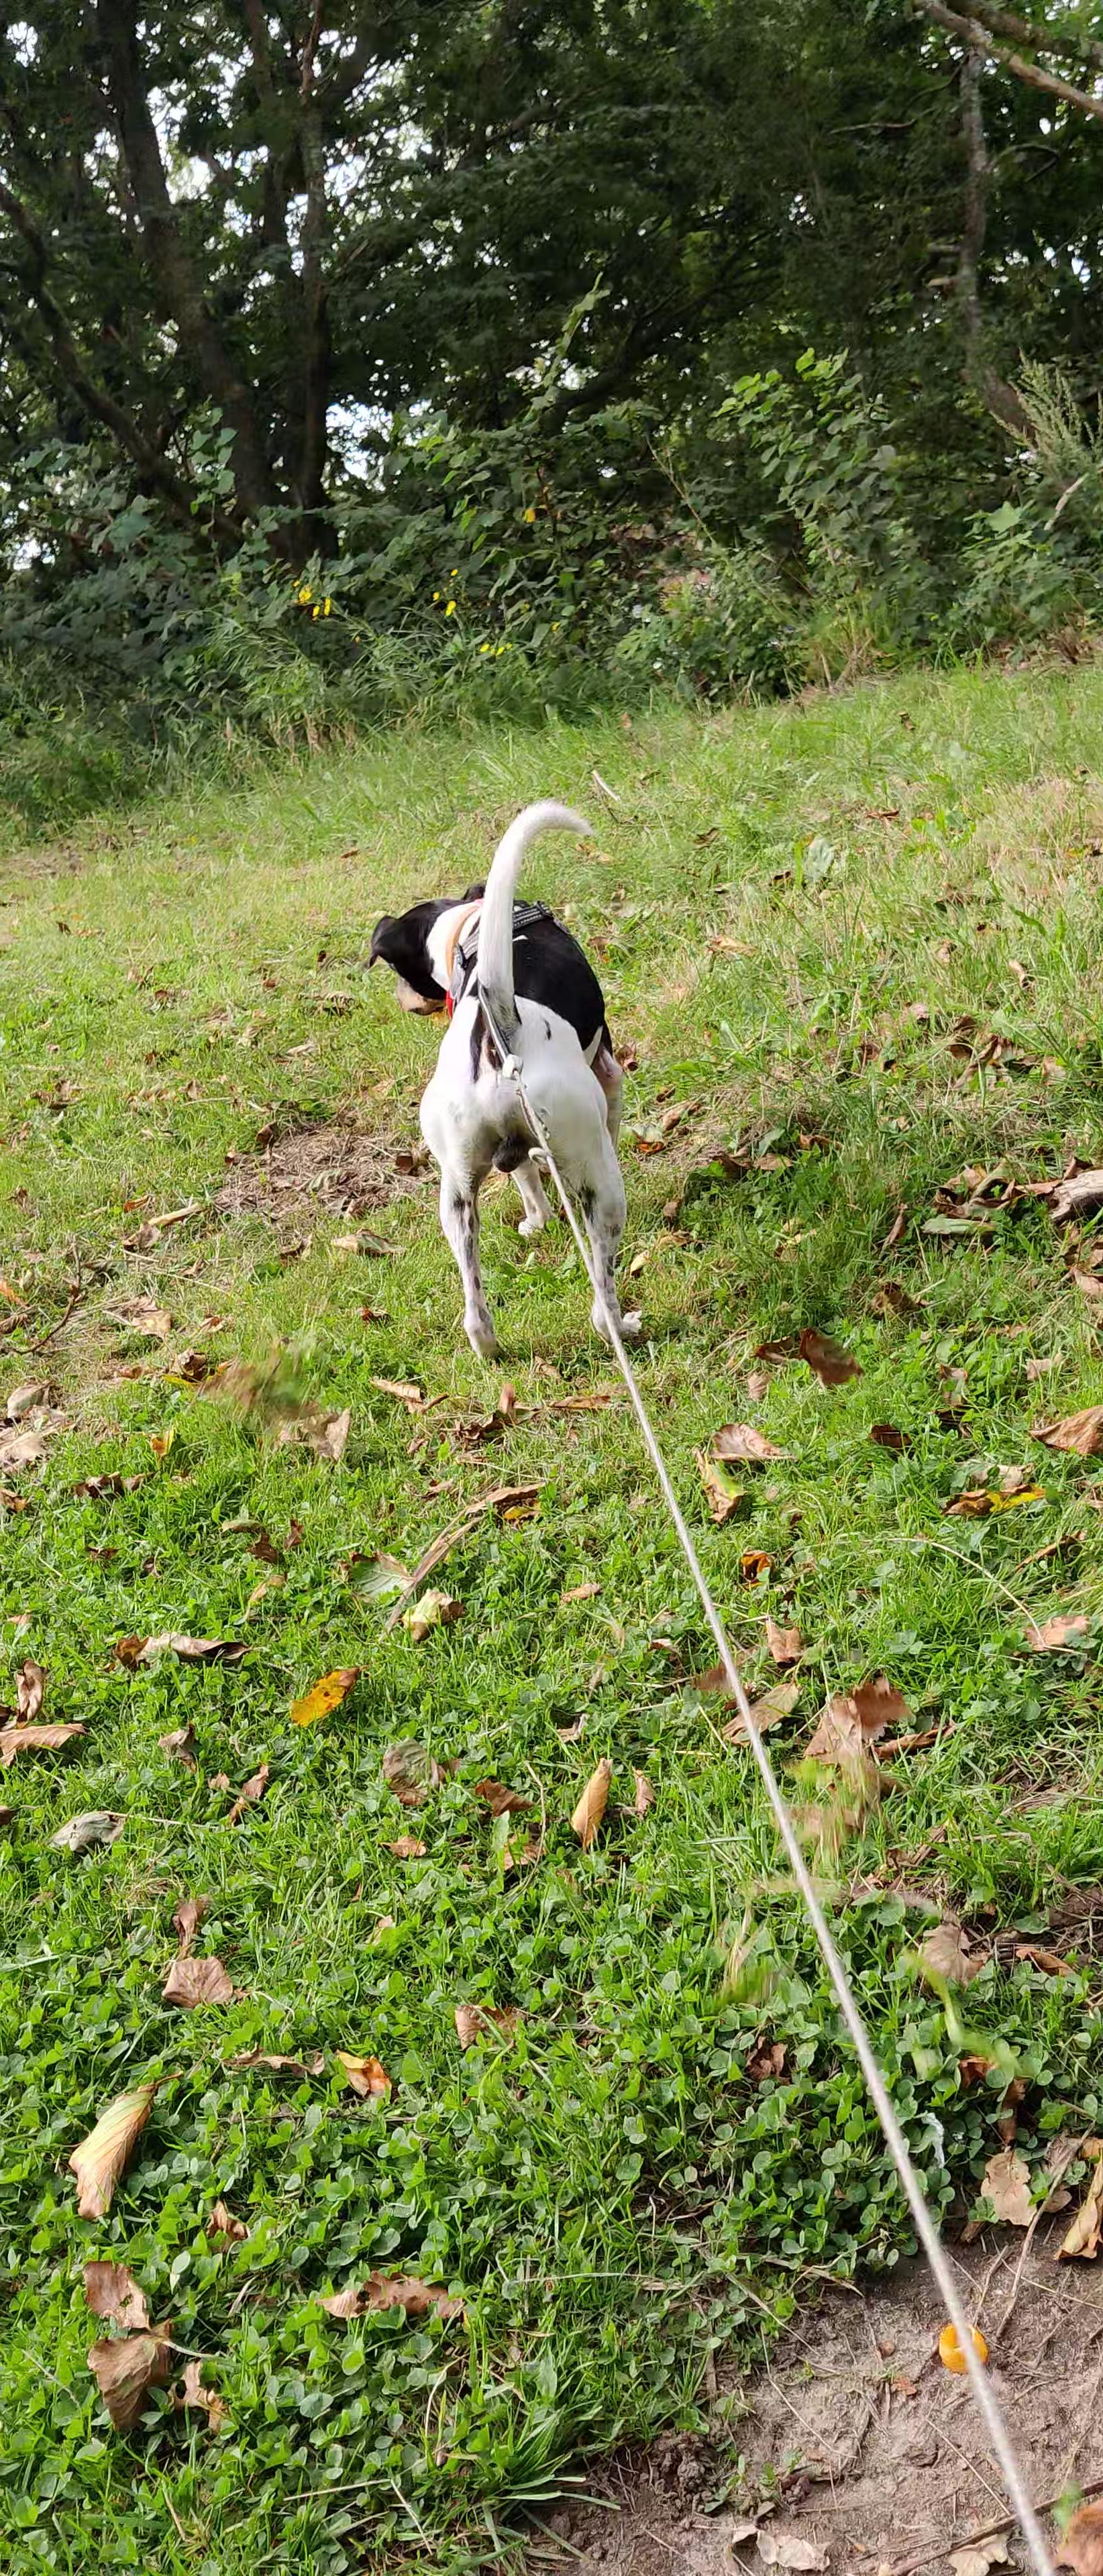Dog: (358, 793, 646, 1372)
